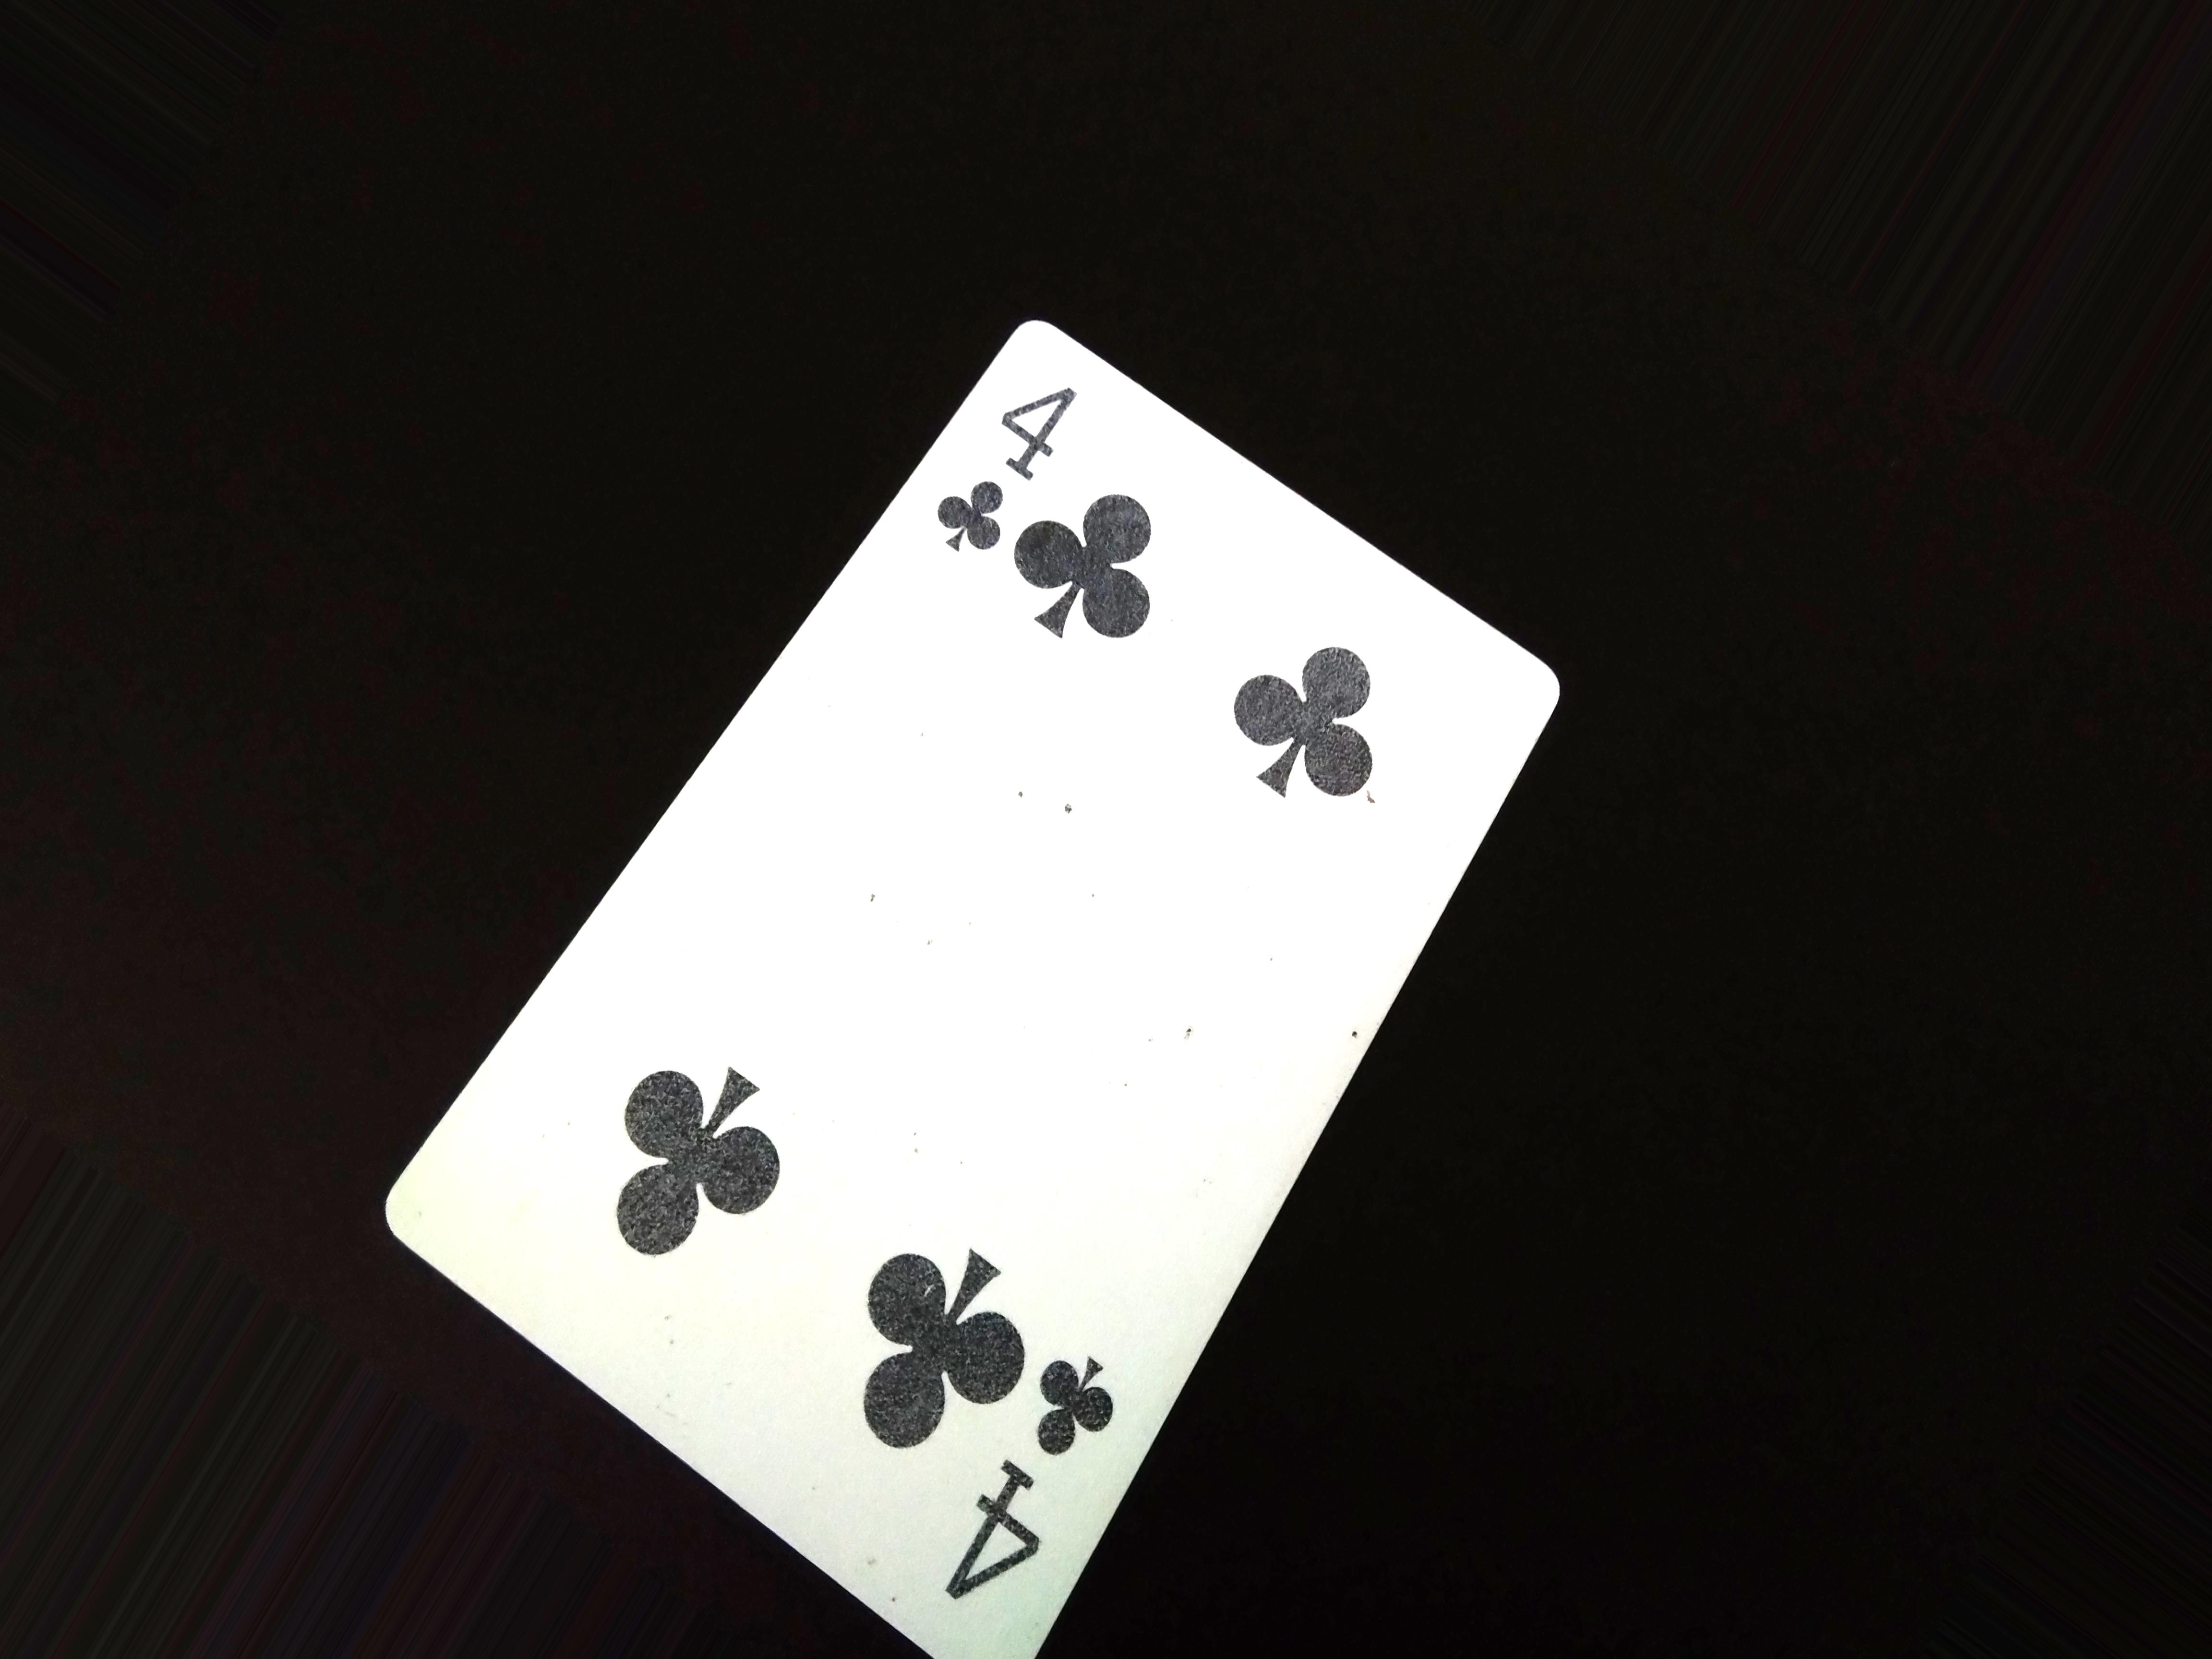4C: (923, 357, 1094, 579)
